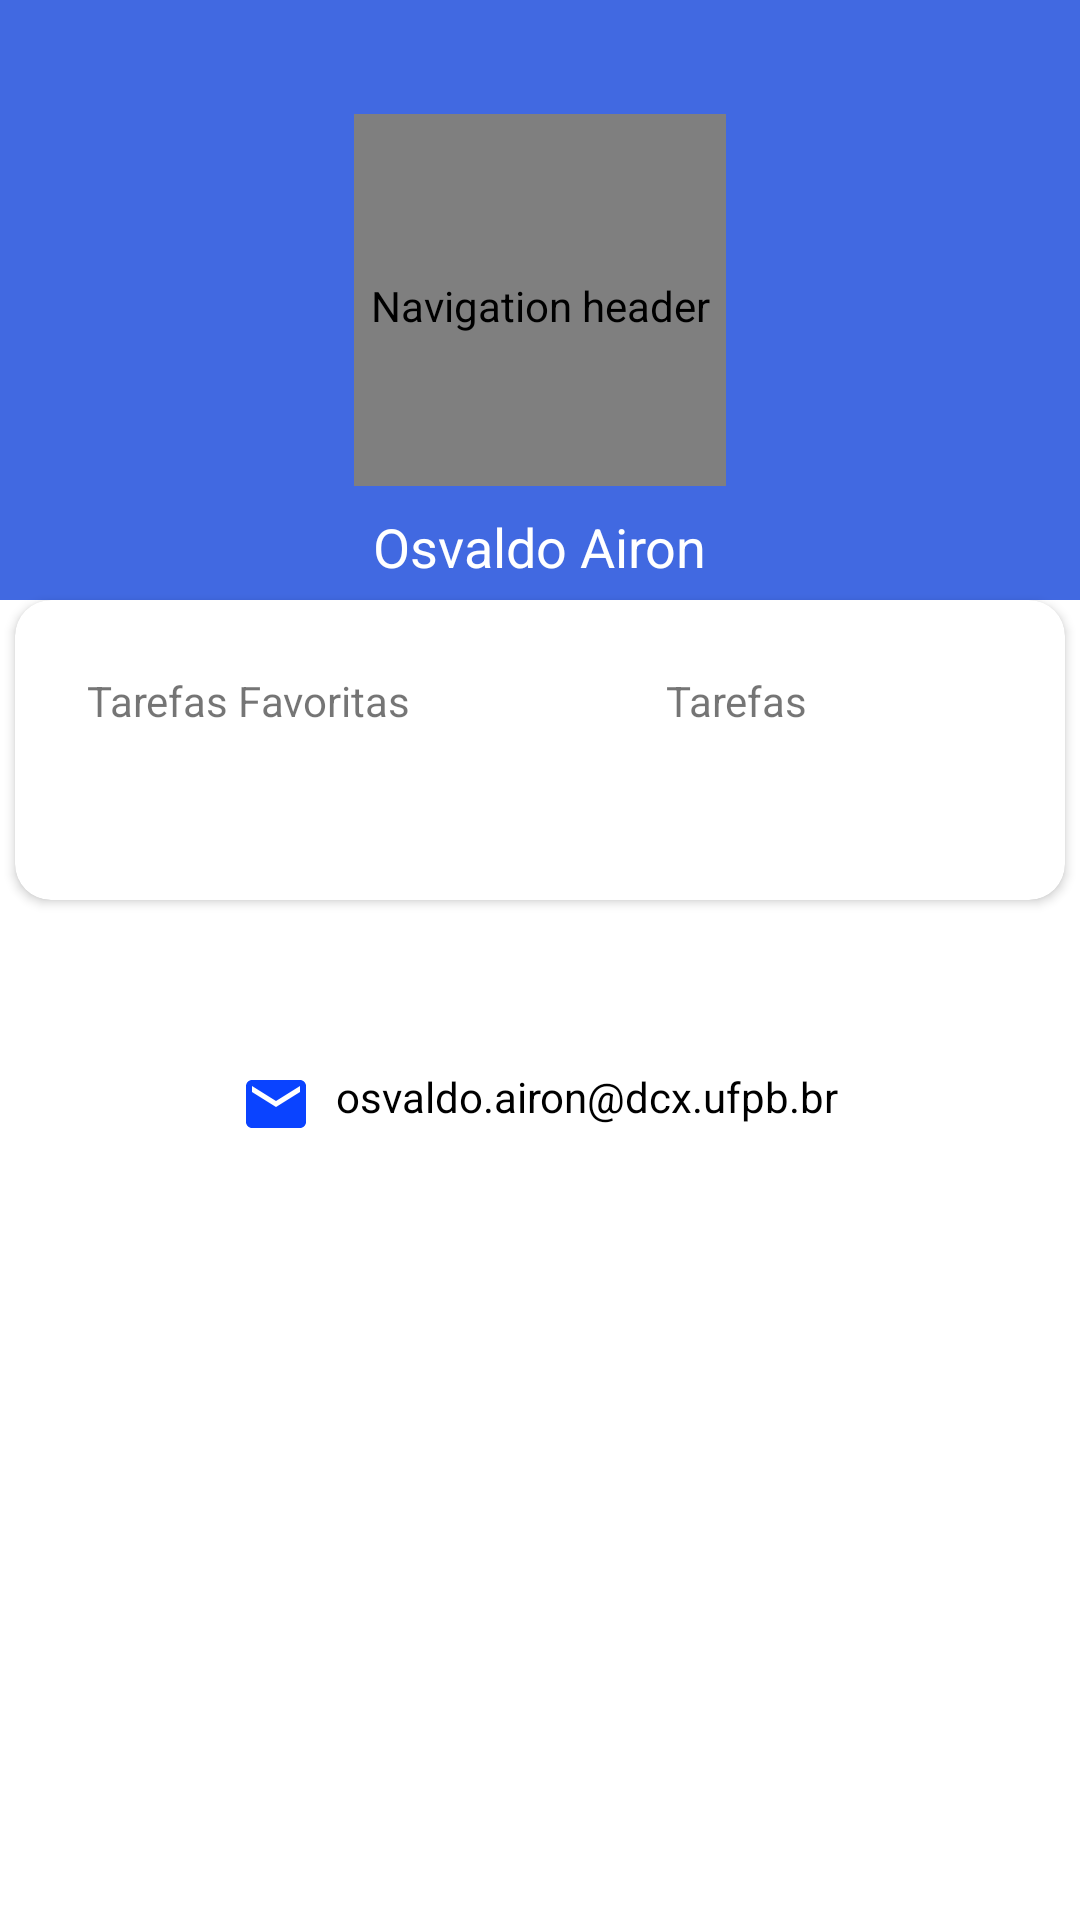

Screen size 1080 x 1920. Icon name, then its center in pixels as (x,y):
email: (276,1104)
